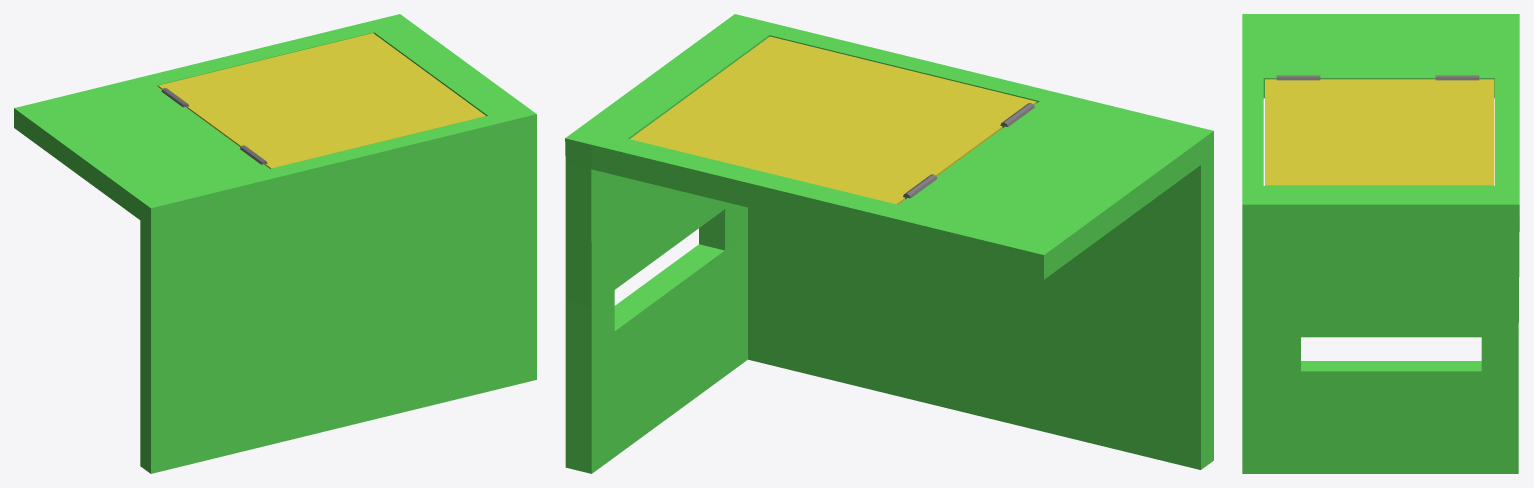
File: enclosureNextToCage.fbx
The picture shows the model from 3 angles, left to right: view 1: azimuth 30°, elevation 25°; view 2: azimuth 150°, elevation 25°; view 3: azimuth 270°, elevation 25°; orthographic projection. The views are drawn at different scales.
Parts seen in each view (by area): view 1: Enclosure next to Cage, Enclosure Lid; view 2: Enclosure next to Cage, Enclosure Lid; view 3: Enclosure next to Cage, Enclosure Lid.
Boxes of the visible parts, <box> form: Enclosure next to Cage: <box>14,14,536,473</box>; Enclosure Lid: <box>158,33,485,168</box>; Enclosure next to Cage: <box>565,14,1213,473</box>; Enclosure Lid: <box>630,36,1036,204</box>; Enclosure next to Cage: <box>1242,14,1519,473</box>; Enclosure Lid: <box>1265,79,1494,185</box>.
Bounding box in the file's own units: 402 × 247 × 267.
